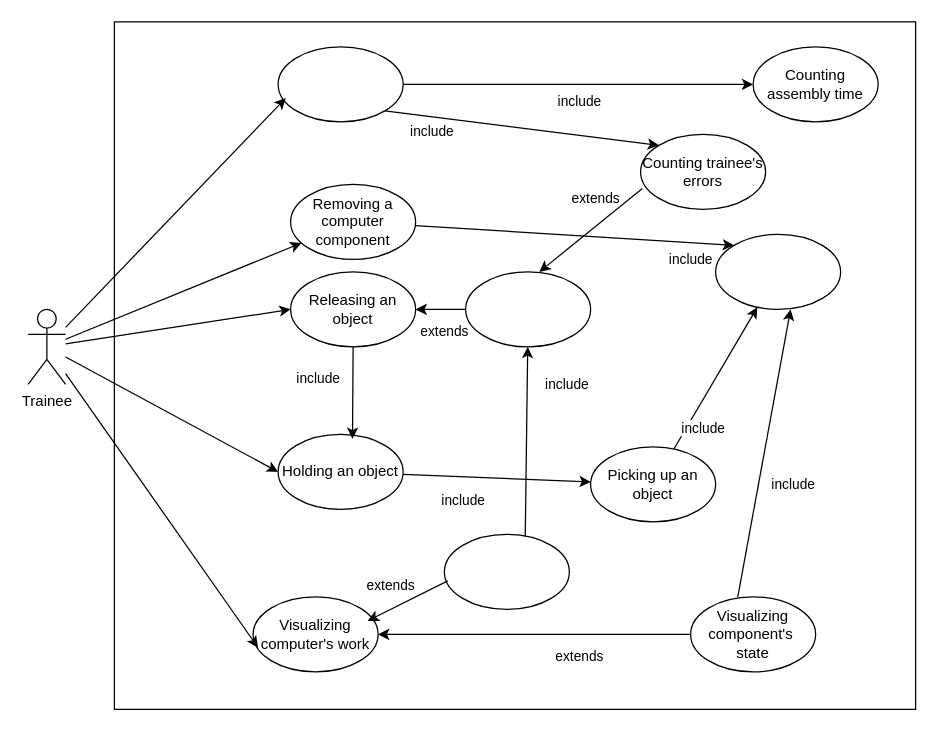
Image size: 938x731. Some labels were removed from this diagram. Each missing label, with the centre of its shape:
"Detecting a holdable object" goes at point (777, 271).
"Displaying assembly progress" goes at point (506, 571).
"Installing a computer component" goes at point (527, 309).
"Tracking trainee's score" goes at point (340, 84).
